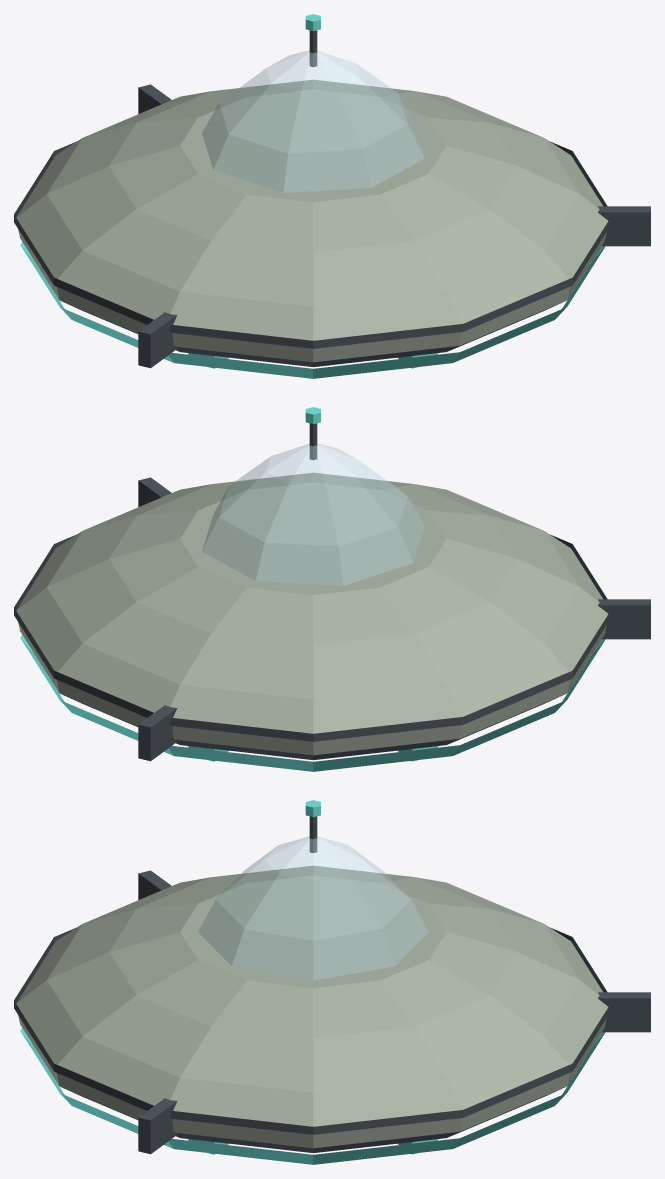
Rendered from SH_AbductionUfo_01.glb.
3 renders of one model, top to bottom at view 1: azimuth 30°, elevation 25°; view 2: azimuth 150°, elevation 25°; view 3: azimuth 270°, elevation 25°, orthographic.
Visible parts, largest first — view 1: SH_AbductionUfo_01; view 2: SH_AbductionUfo_01; view 3: SH_AbductionUfo_01.
Boxes of the visible parts, x1,y1,x2,y2 form: SH_AbductionUfo_01: [14, 14, 650, 378]; SH_AbductionUfo_01: [14, 407, 650, 771]; SH_AbductionUfo_01: [14, 800, 650, 1164].
Bounding box in the file's own units: 6.74 × 3.64 × 7.17.
2 materials, 2 textured.
